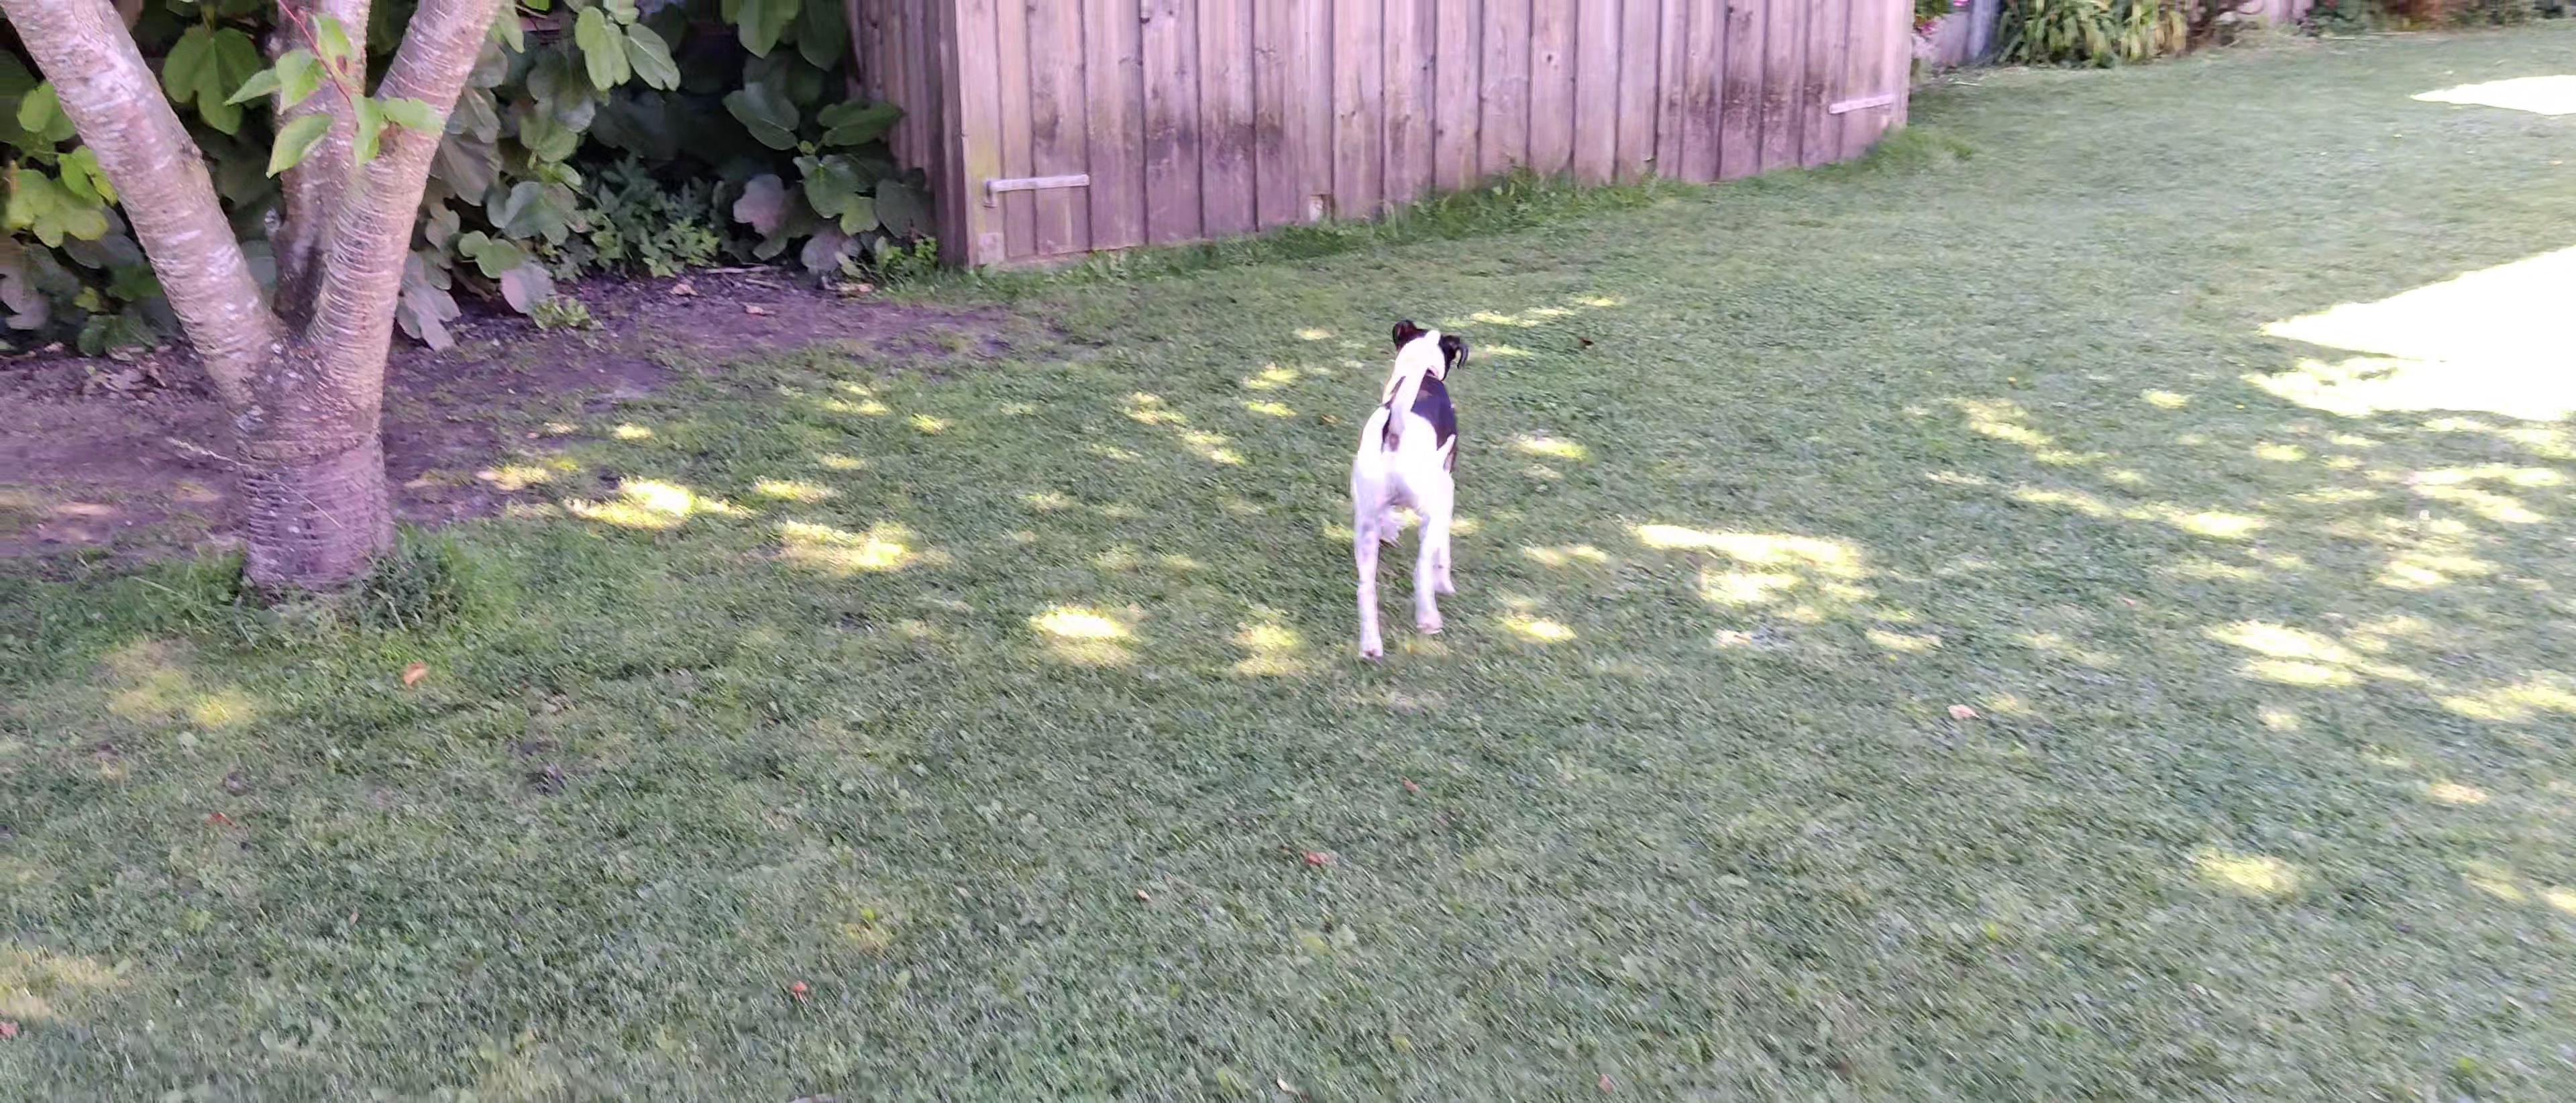Dog: (1344, 316, 1479, 661)
